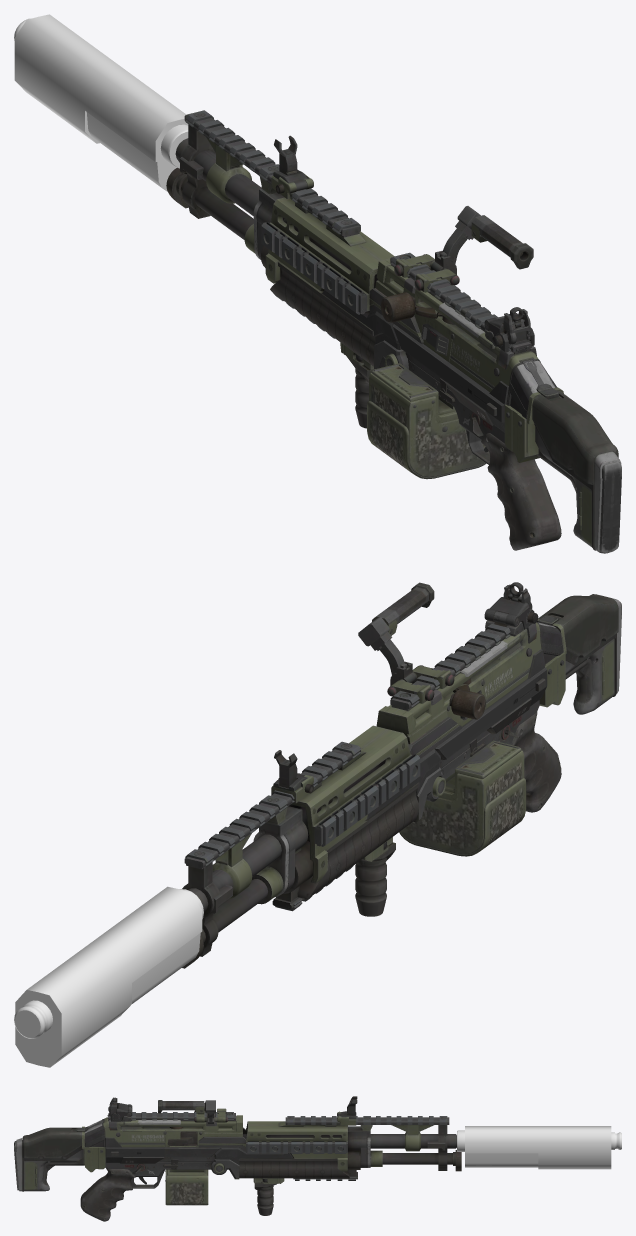
The model's file is apex_spitfire.glb.
3 renders of one model, top to bottom at view 1: azimuth 30°, elevation 25°; view 2: azimuth 150°, elevation 25°; view 3: azimuth 270°, elevation 25°, orthographic. The views are drawn at different scales.
Visible parts, largest first — view 1: body__tex_apex_spitfire_1, barrel__polymer_4, mag__tex_apex_spitfire_2, irons__tex_apex_spitfire_3; view 2: body__tex_apex_spitfire_1, barrel__polymer_4, mag__tex_apex_spitfire_2, irons__tex_apex_spitfire_3; view 3: body__tex_apex_spitfire_1, barrel__polymer_4, mag__tex_apex_spitfire_2, irons__tex_apex_spitfire_3, cycle__tex_apex_spitfire_m0.
Part boxes in pixels (x1,y1,x2,y2): body__tex_apex_spitfire_1: [166, 110, 621, 553]; barrel__polymer_4: [14, 14, 188, 191]; mag__tex_apex_spitfire_2: [367, 363, 489, 479]; irons__tex_apex_spitfire_3: [271, 135, 534, 352]; body__tex_apex_spitfire_1: [182, 582, 621, 968]; barrel__polymer_4: [14, 886, 203, 1067]; mag__tex_apex_spitfire_2: [399, 740, 526, 856]; irons__tex_apex_spitfire_3: [271, 582, 538, 803]; body__tex_apex_spitfire_1: [14, 1100, 461, 1221]; barrel__polymer_4: [457, 1126, 621, 1169]; mag__tex_apex_spitfire_2: [165, 1169, 208, 1205]; irons__tex_apex_spitfire_3: [108, 1096, 357, 1125]; cycle__tex_apex_spitfire_m0: [167, 1131, 197, 1145].
Size of the model in its own units: 0.1439 by 0.2864 by 1.21.
Materials: 2 (1 with a texture image).
